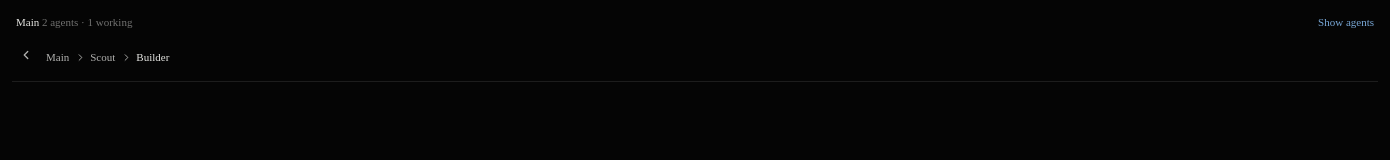
Test: AgentTimelineNavigation › keeps branch cards collapsed while viewing a child until explicitly expanded
The width and height of the screenshot is (1390, 160).
Check: the button "Builder" is shown, box [132,43,173,71]
Check: the text "Build tabs" is not shown
Click the button "Show agents" at (1346, 22), box [1314,8,1378,36]
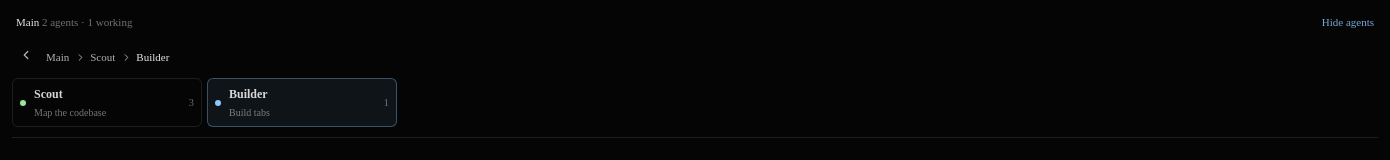
Check: the text "Build tabs" is shown, box [229,105,270,120]
